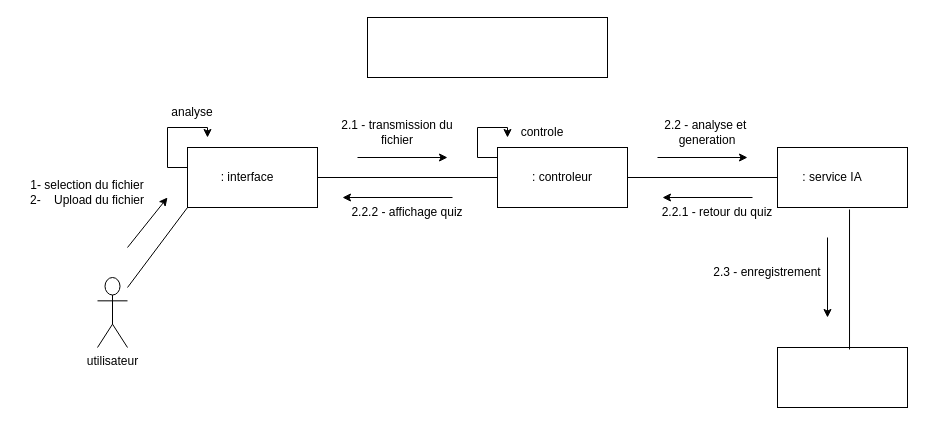
Some shapes in this 925 by 425 pixel diagram are drawn without their labels. The centre of each missing label's shape, as x and y in pixels:
": base de donnees" goes at (x=842, y=377).
"Diagramme de communication du cas : generer un quiz" goes at (x=487, y=47).
